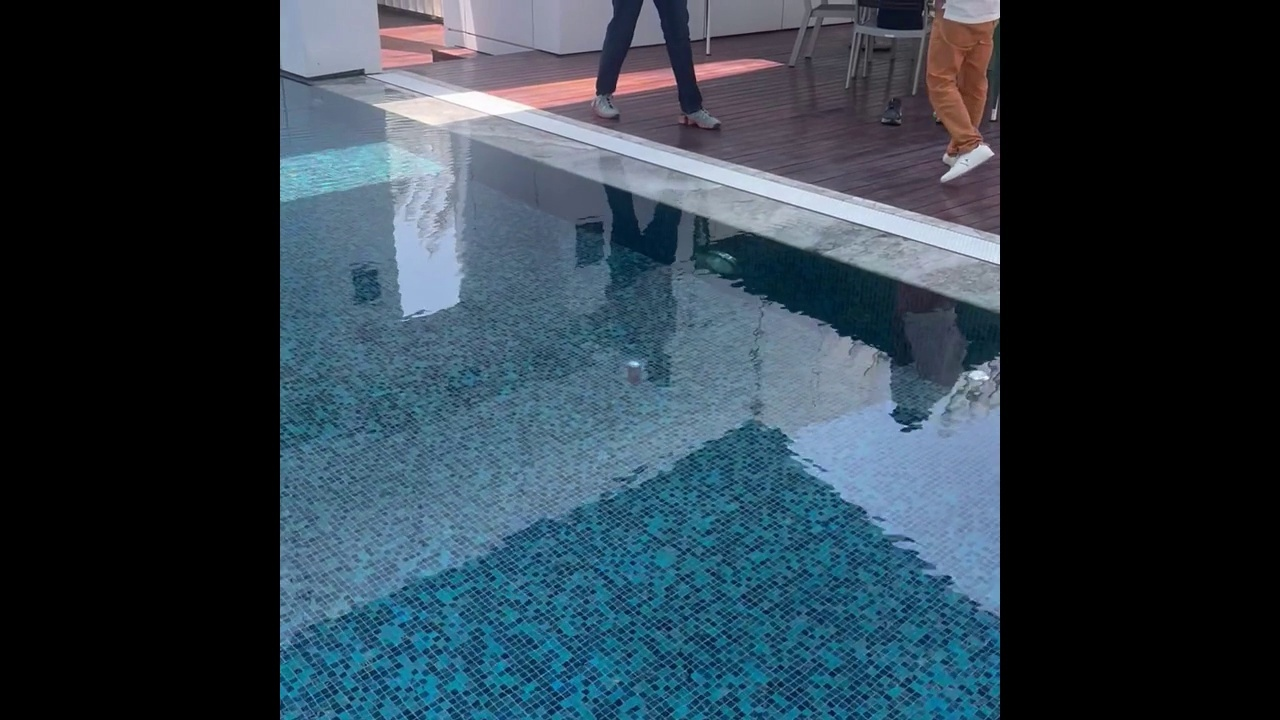debris: (963, 367, 991, 411), (626, 358, 642, 387)
